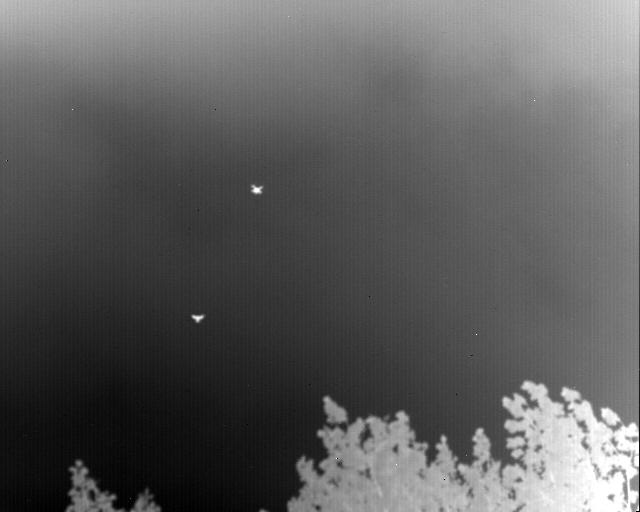plane: (250, 183, 263, 194), (191, 313, 205, 322)
